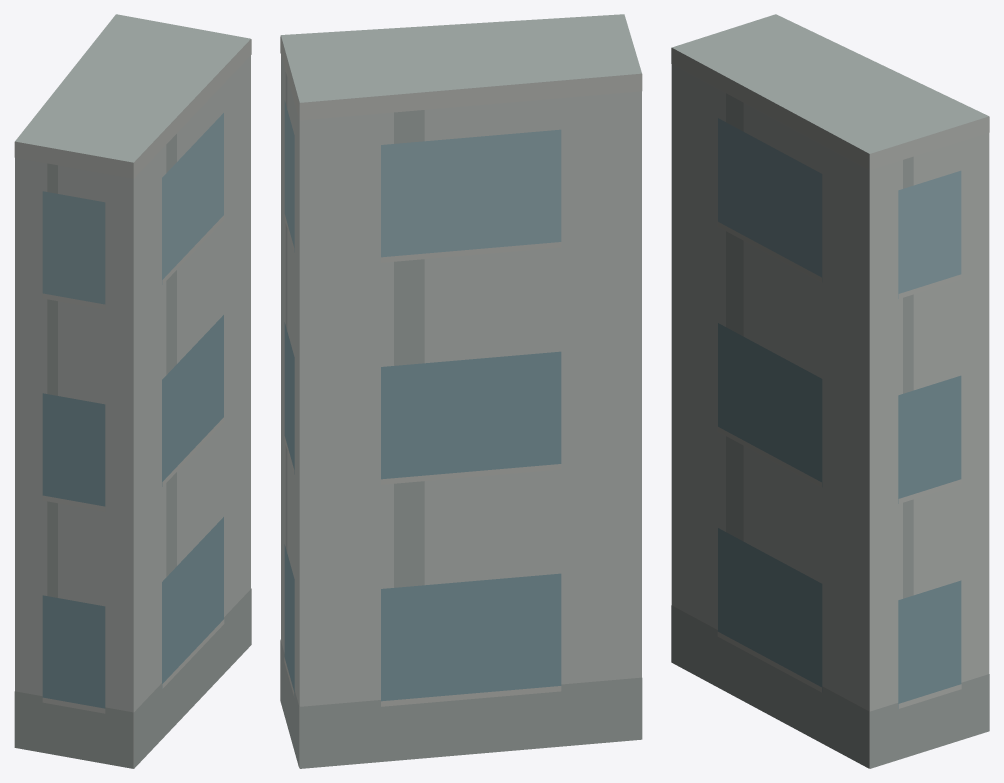
File: survey-upis-32545333.glb
3 renders of one model, left to right at view 1: azimuth 30°, elevation 25°; view 2: azimuth 150°, elevation 25°; view 3: azimuth 270°, elevation 25°, orthographic. The views are drawn at different scales.
Parts seen in each view (by area): view 1: survey-upis-32545333.tmp; view 2: survey-upis-32545333.tmp; view 3: survey-upis-32545333.tmp.
Part boxes in pixels (left/top/right/bottom): survey-upis-32545333.tmp: left=14, top=14, right=251, bottom=768; survey-upis-32545333.tmp: left=280, top=14, right=642, bottom=768; survey-upis-32545333.tmp: left=671, top=14, right=989, bottom=768.
Bounding box in the file's own units: 4.47 × 9.15 × 4.29.
